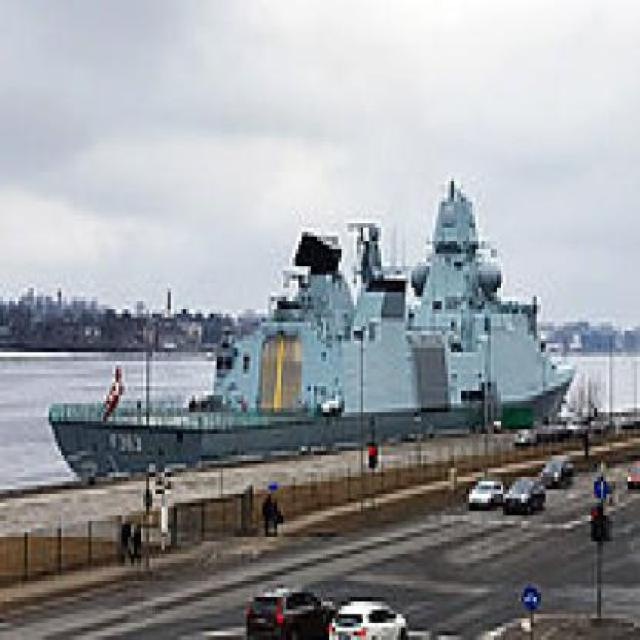warship2: (34, 168, 586, 486)
